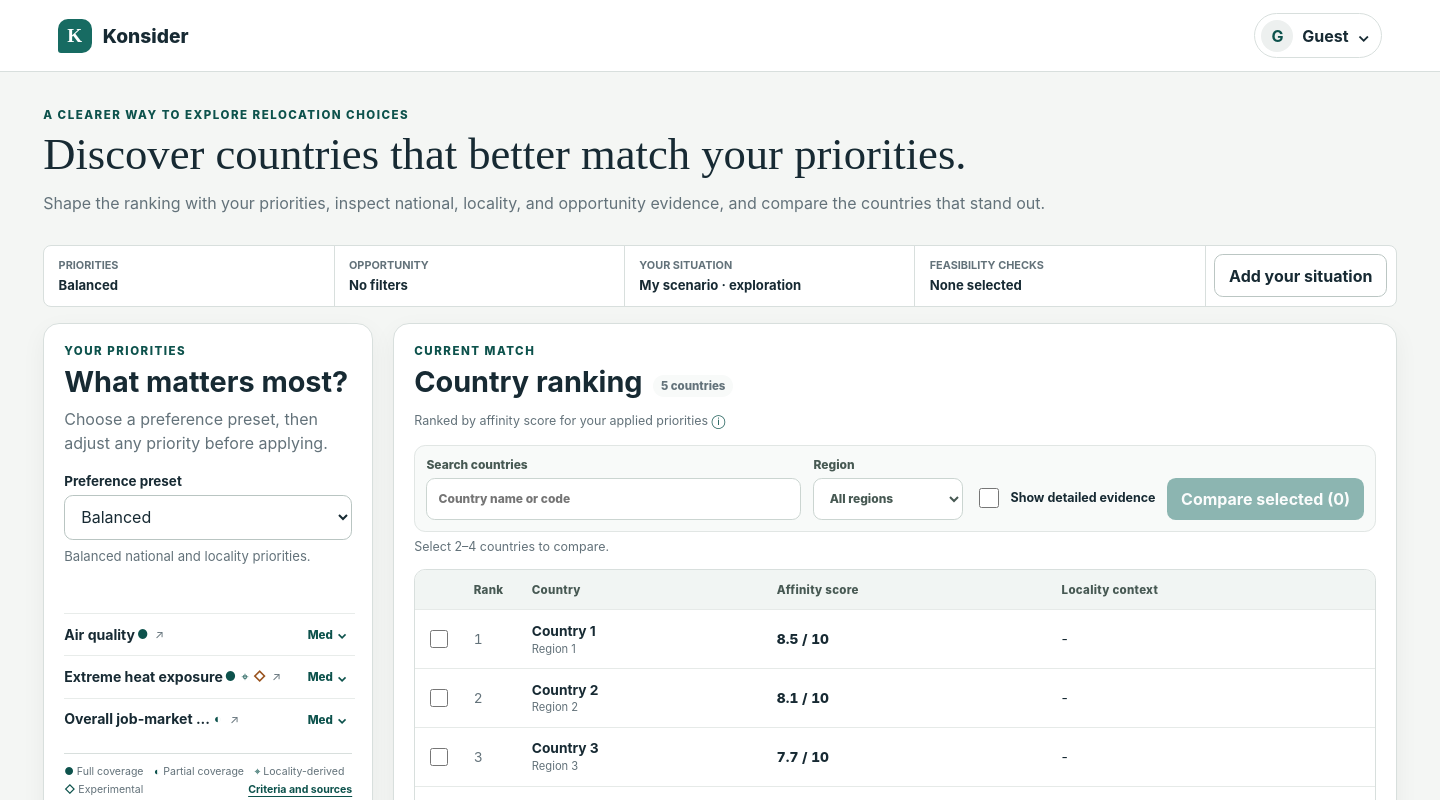
Test: clears selected comparison countries and shows no locality context as a hyphen
Expected: the heading "Country ranking" is shown, left=414, top=365, right=642, bottom=398
Expected: the text "-" in the row of "Country 1" is shown, left=1062, top=631, right=1068, bottom=647
Click the checkbox named "Select Country".
click(439, 639)  # box left=430, top=630, right=448, bottom=648
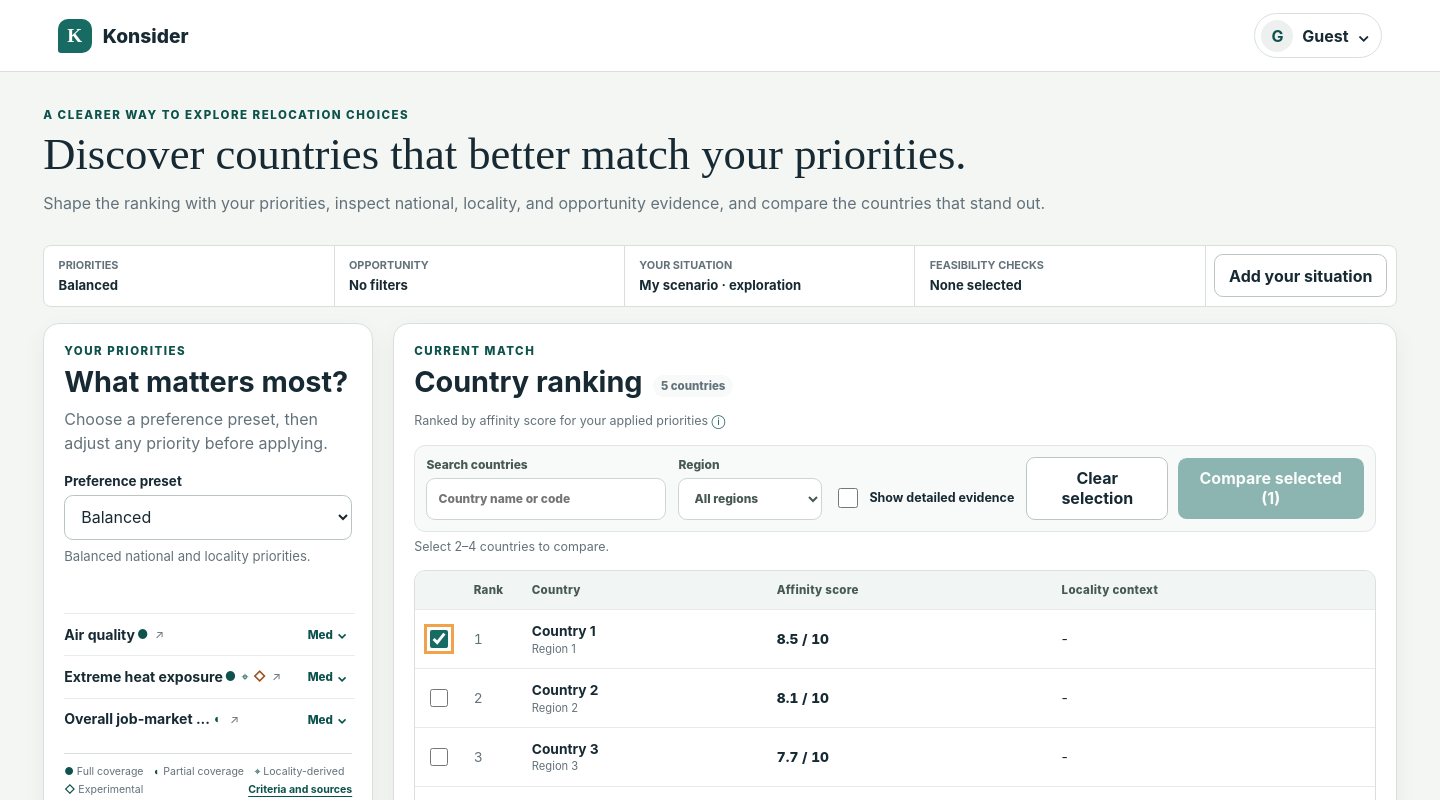
Click the checkbox named "Select Country".
click(439, 698)  # box left=430, top=689, right=448, bottom=707
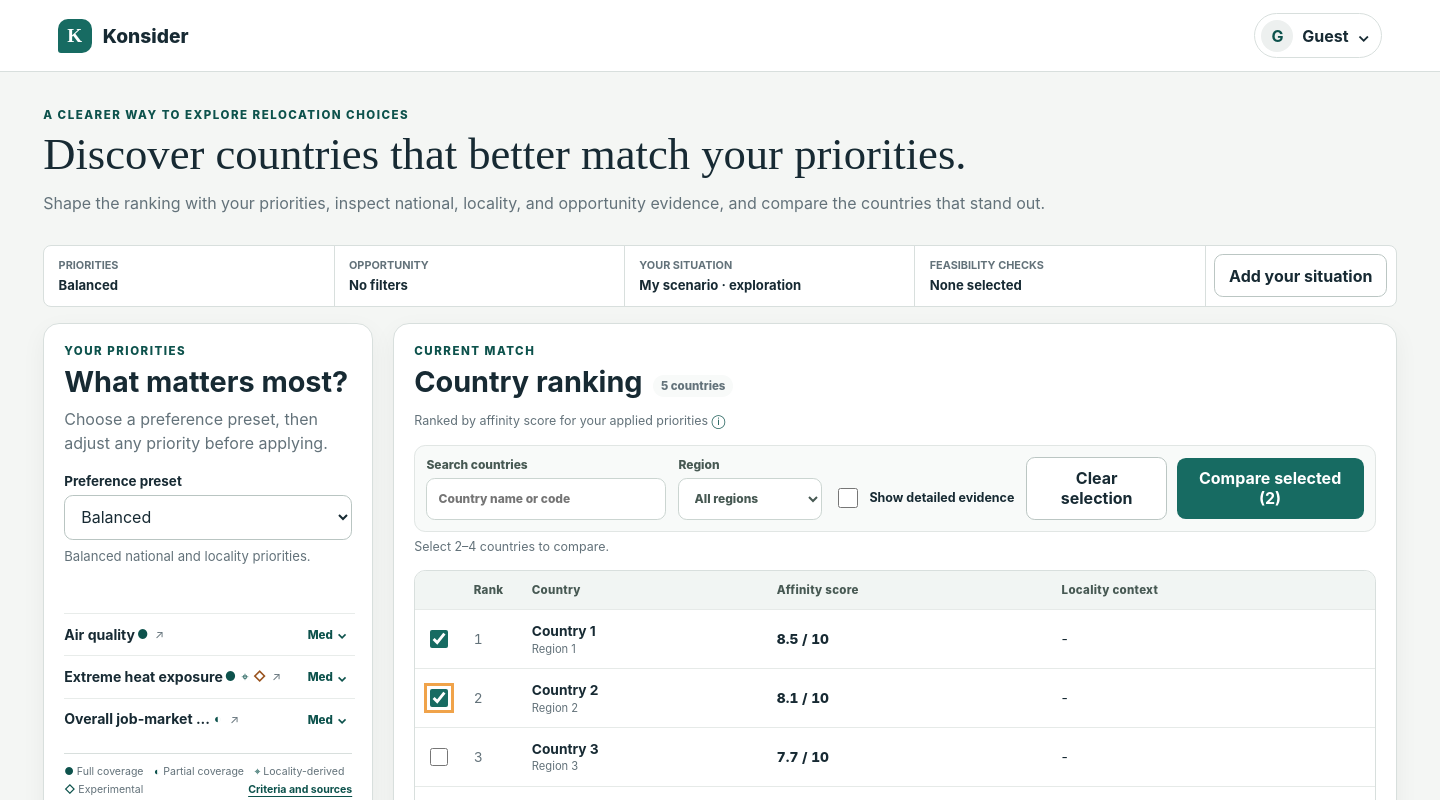
Now the button "Compare selected (2)" is enabled, box left=1176, top=458, right=1364, bottom=519
Click the button "Clear selection".
click(1097, 488)  # box left=1026, top=457, right=1167, bottom=520
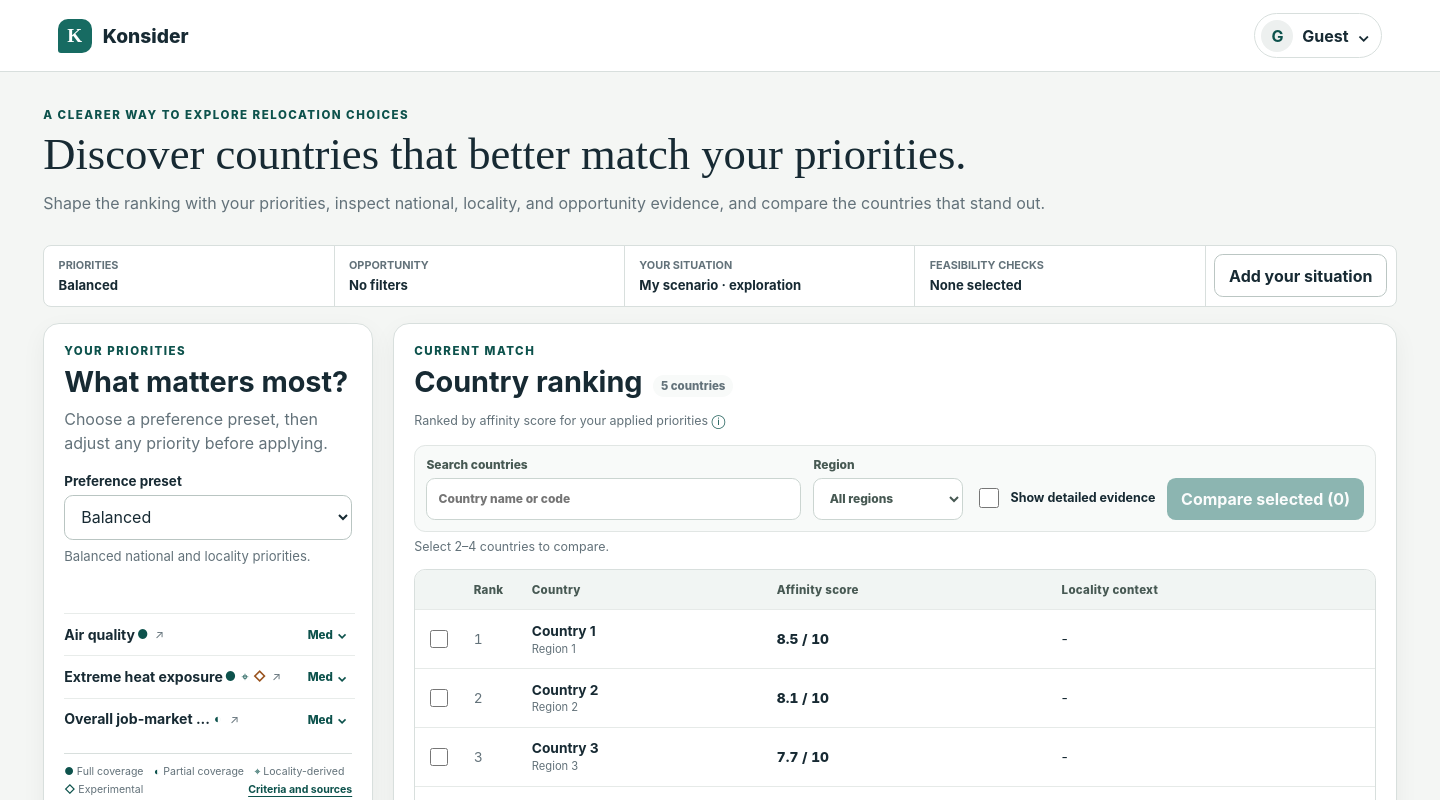
Now the checkbox named "Select Country" is not checked, box left=430, top=630, right=448, bottom=648
Now the button "Compare selected (0)" is disabled, box left=1168, top=478, right=1364, bottom=520
Now the button "Clear selection" is gone
